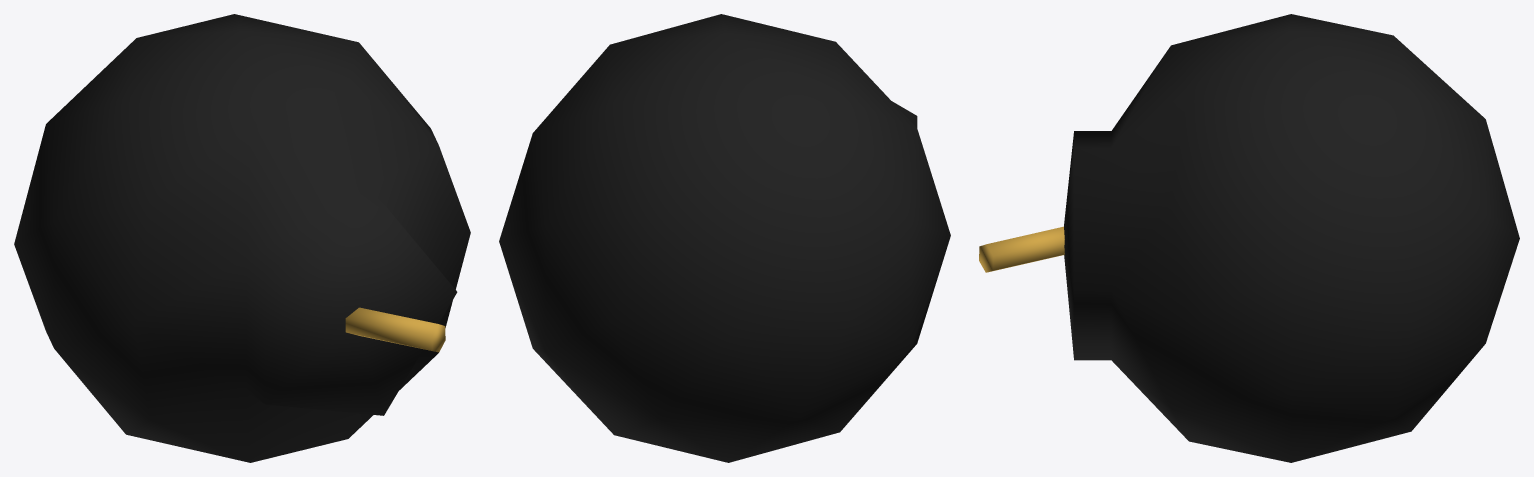
File: Bomb.fbx
The picture shows the model from 3 angles, left to right: view 1: azimuth 30°, elevation 25°; view 2: azimuth 150°, elevation 25°; view 3: azimuth 270°, elevation 25°; orthographic projection.
Visible parts, largest first — view 1: Icosphere (×2); view 2: Icosphere; view 3: Icosphere (×2).
Boxes of the visible parts, x1,y1,x2,y2 form: Icosphere (×2): (14, 14, 470, 462); Icosphere: (499, 14, 950, 462); Icosphere (×2): (979, 14, 1519, 462).
Bounding box in the file's own units: 1.9 × 2 × 2.37.
